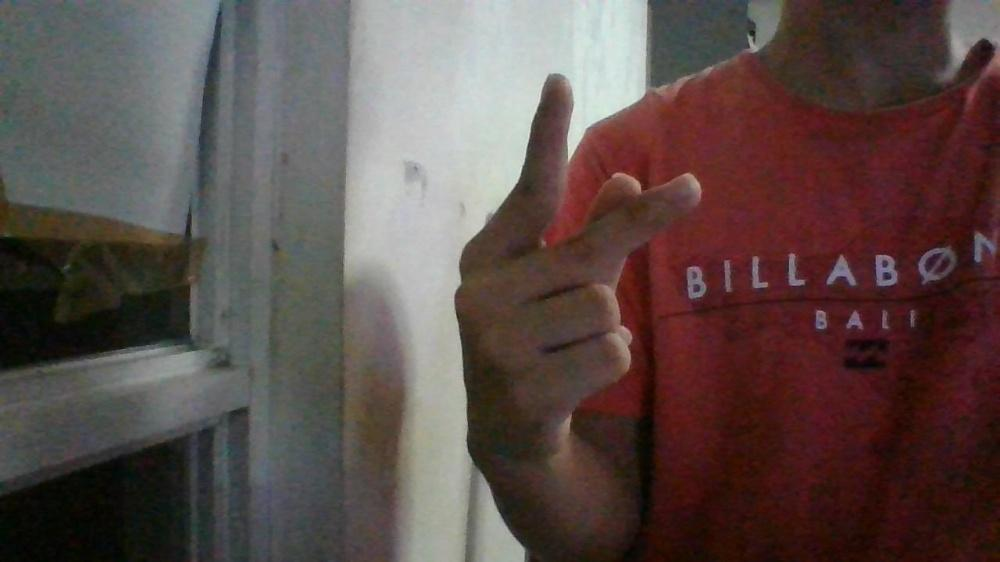k: (452, 70, 702, 462)
